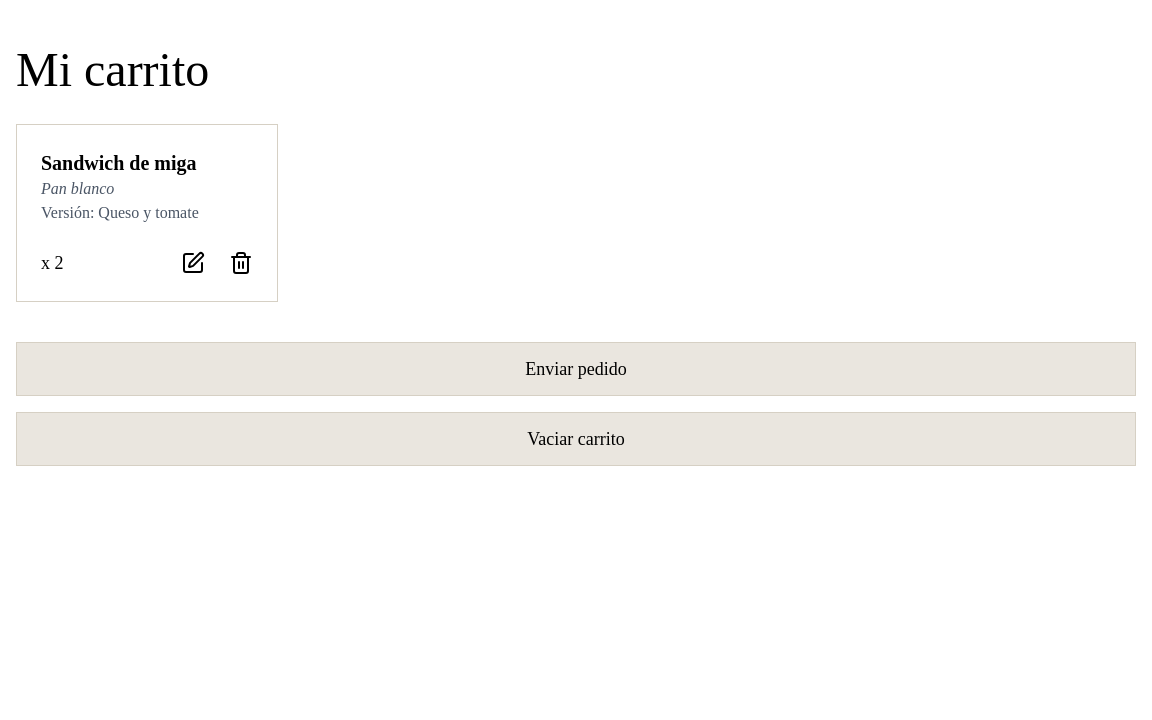
Test: Cart › displays the delete confirmation modal when "eliminar" is clicked
Click the button named "eliminar": (241, 263) [229,251,253,275]
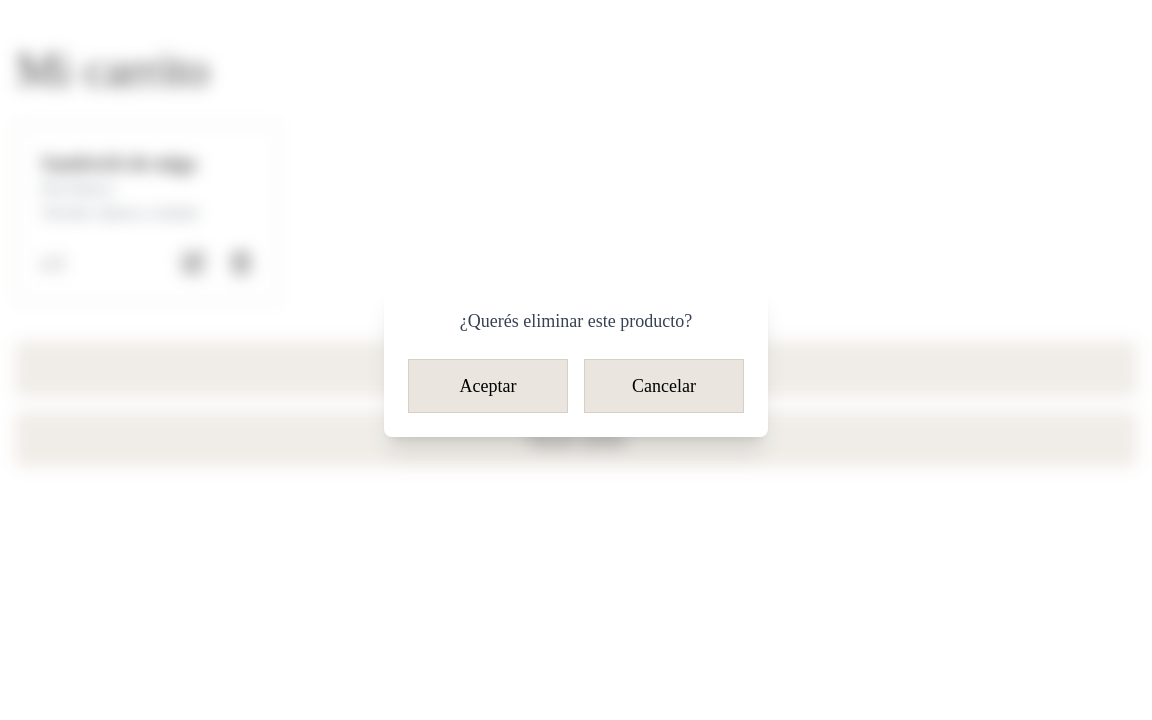
Now the text "¿Querés eliminar este producto?" is shown, box [460,311,692,331]
